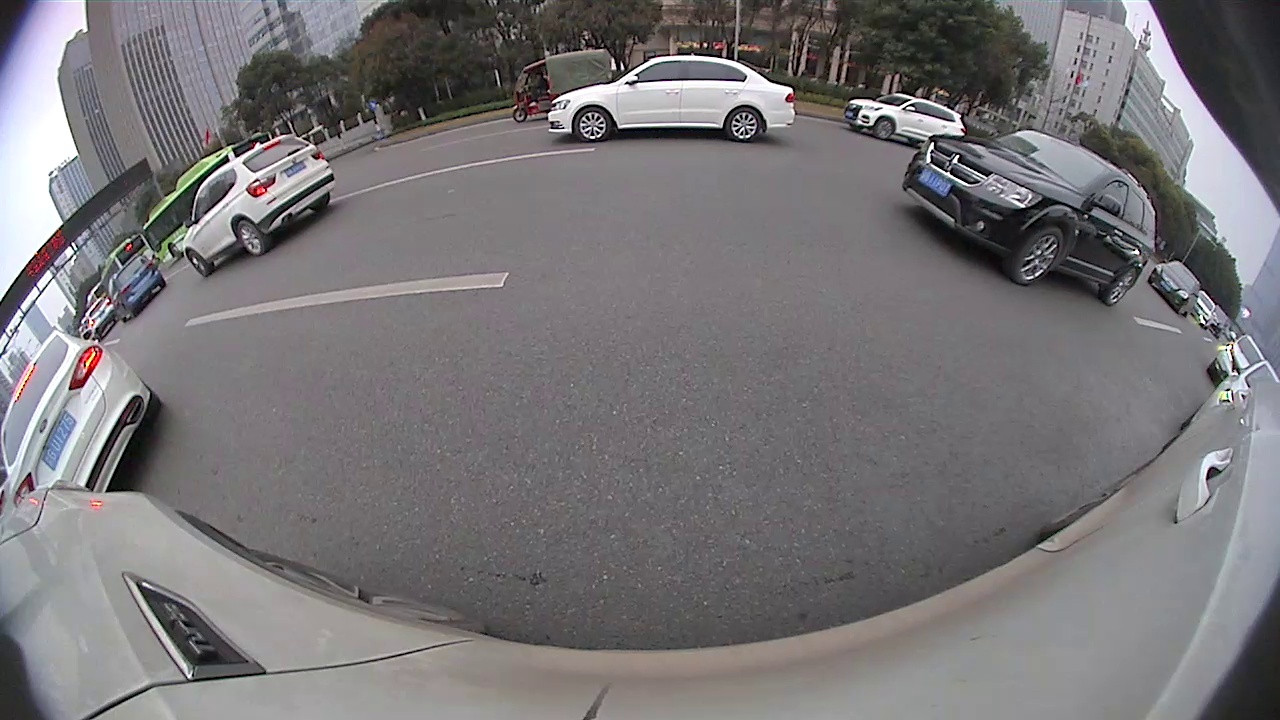car: (897, 127, 1161, 306), (4, 330, 163, 501), (566, 38, 802, 147), (181, 133, 337, 279), (844, 88, 969, 147)
front: (1008, 227, 1068, 288), (573, 105, 615, 144), (872, 116, 896, 141)
rear: (1103, 265, 1143, 307), (723, 106, 766, 143), (235, 218, 268, 257)
rider: (510, 50, 614, 127)
